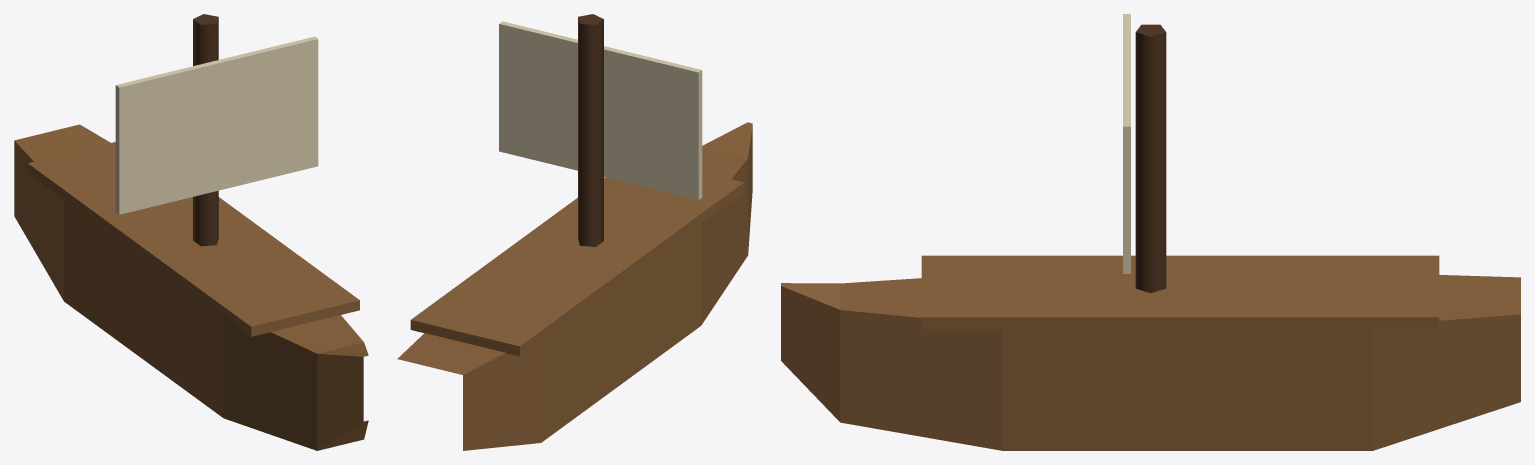
File: veh_naval_fishing_a01_lod2.glb
3 renders of one model, left to right at view 1: azimuth 30°, elevation 25°; view 2: azimuth 150°, elevation 25°; view 3: azimuth 270°, elevation 25°, orthographic. The views are drawn at different scales.
Visible parts, largest first — view 1: body, sail_0; view 2: body, sail_0; view 3: body, sail_0.
Part boxes in pixels (left/top/right/bottom): body: left=14, top=14, right=368, bottom=450; sail_0: left=115, top=36, right=318, bottom=214; body: left=397, top=14, right=752, bottom=450; sail_0: left=499, top=21, right=702, bottom=199; body: left=781, top=24, right=1520, bottom=450; sail_0: left=1123, top=14, right=1130, bottom=273.
Bounding box in the file's own units: 1.66 × 2.71 × 4.6.
